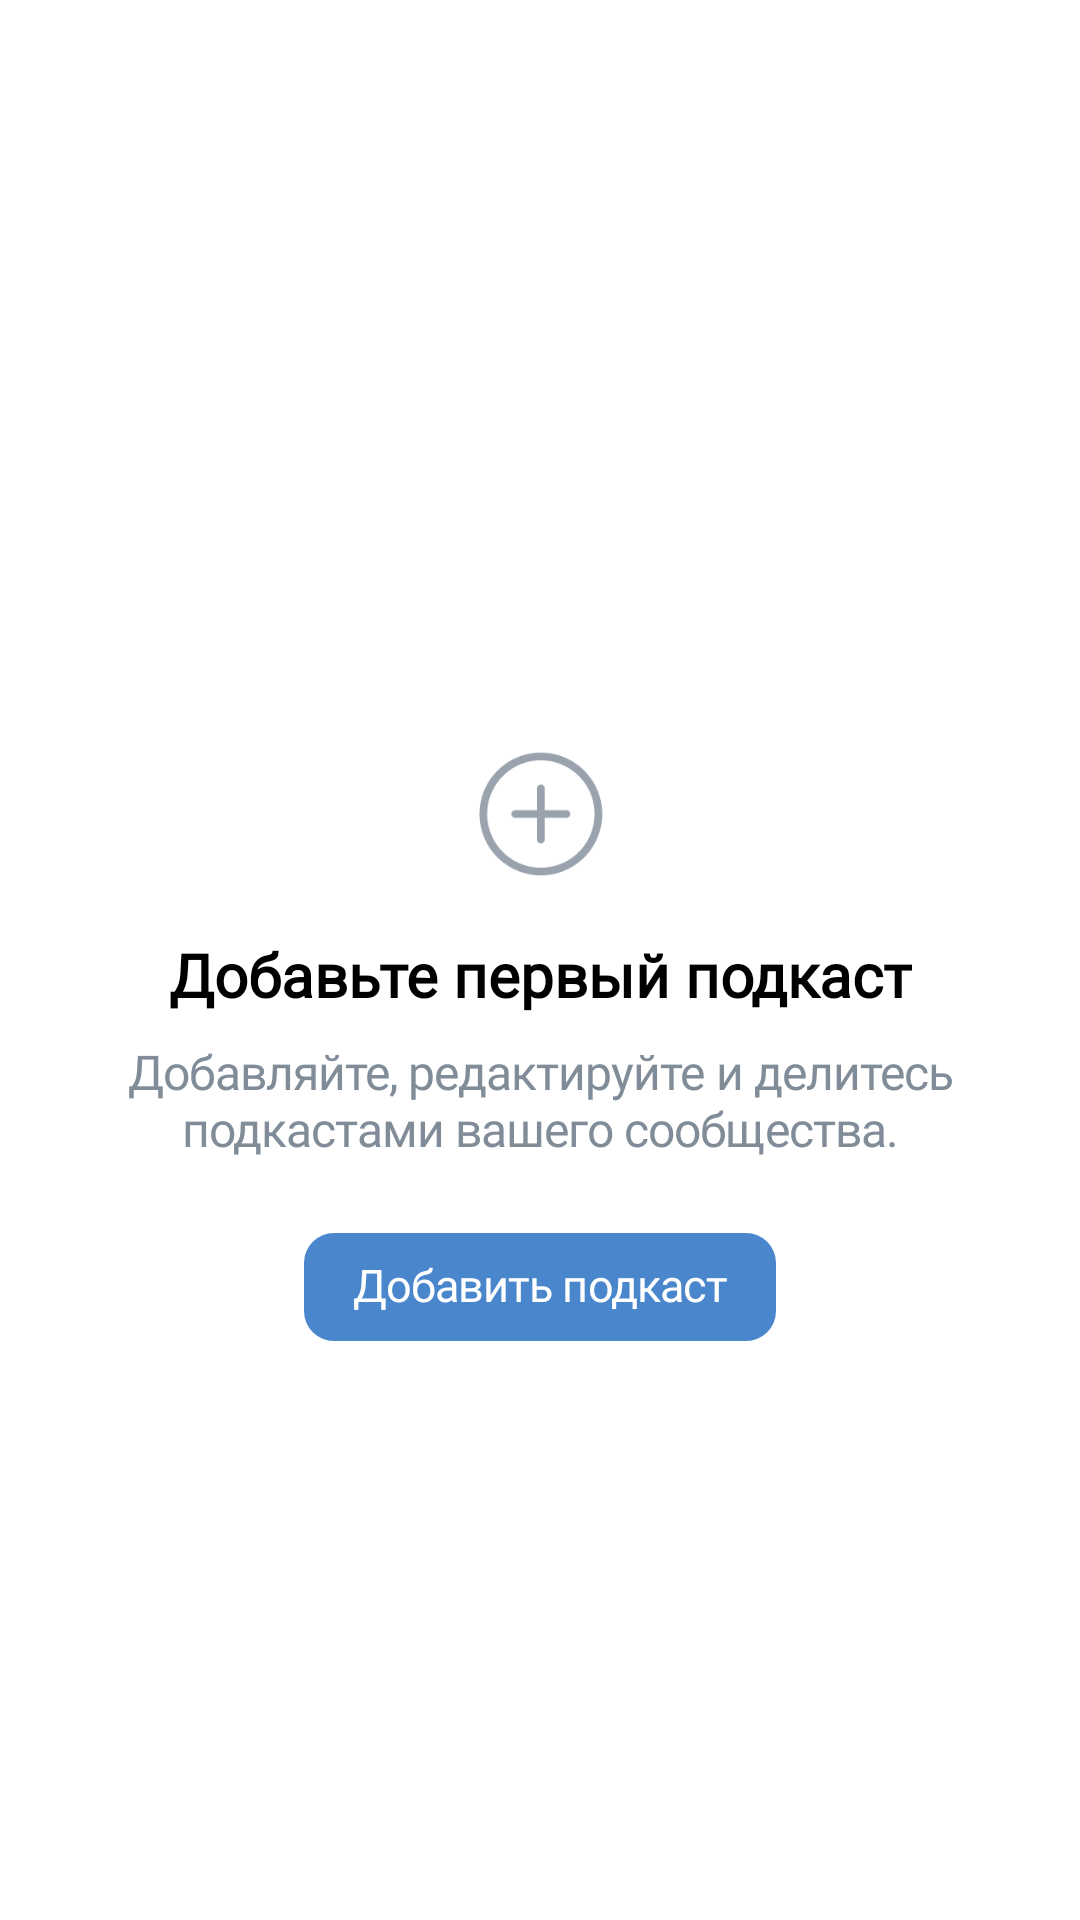

Icons on this 1080×1920 Android screen, each with the point to tap as (x=x, y=y):
add circle: (x=541, y=814)
